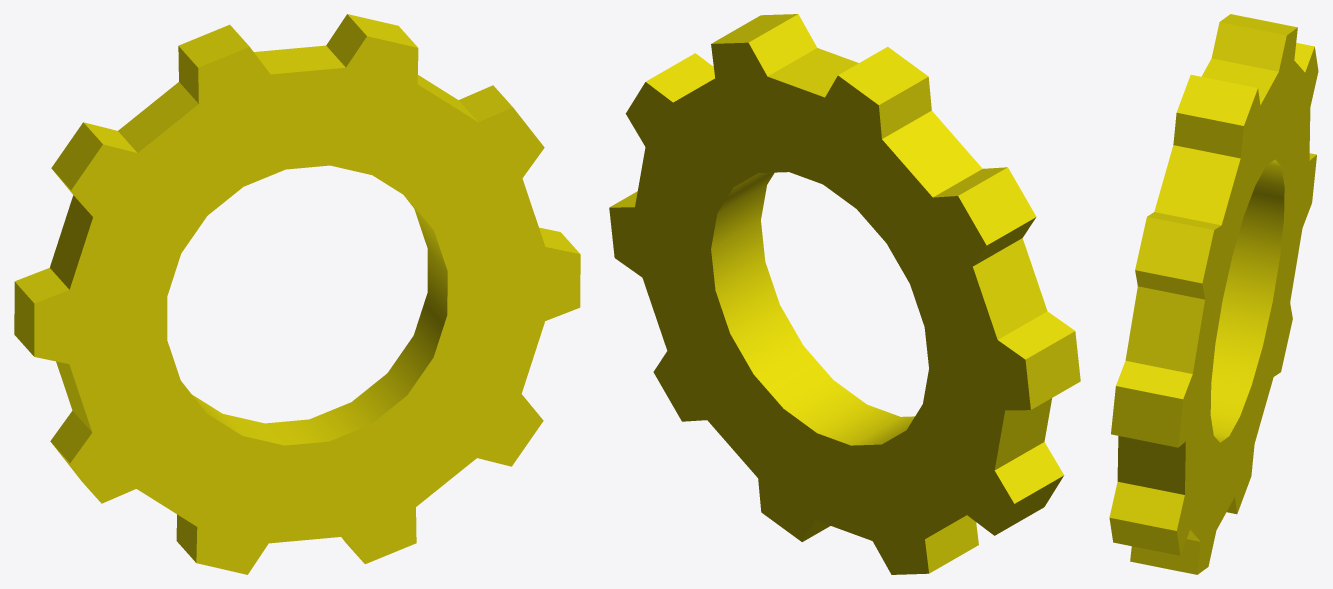
File: A_Small_Gear_Idle.fbx
3 views of the same model, side by side, from view 1: azimuth 30°, elevation 25°; view 2: azimuth 150°, elevation 25°; view 3: azimuth 270°, elevation 25° (orthographic). The views are drawn at different scales.
Visible parts, largest first — view 1: Gear_Large; view 2: Gear_Large; view 3: Gear_Large.
Part boxes in pixels (x1,y1,x2,y2): Gear_Large: (14, 14, 580, 574); Gear_Large: (609, 14, 1080, 574); Gear_Large: (1109, 14, 1318, 574).
Bounding box in the file's own units: 63.26 × 62.68 × 23.66.
